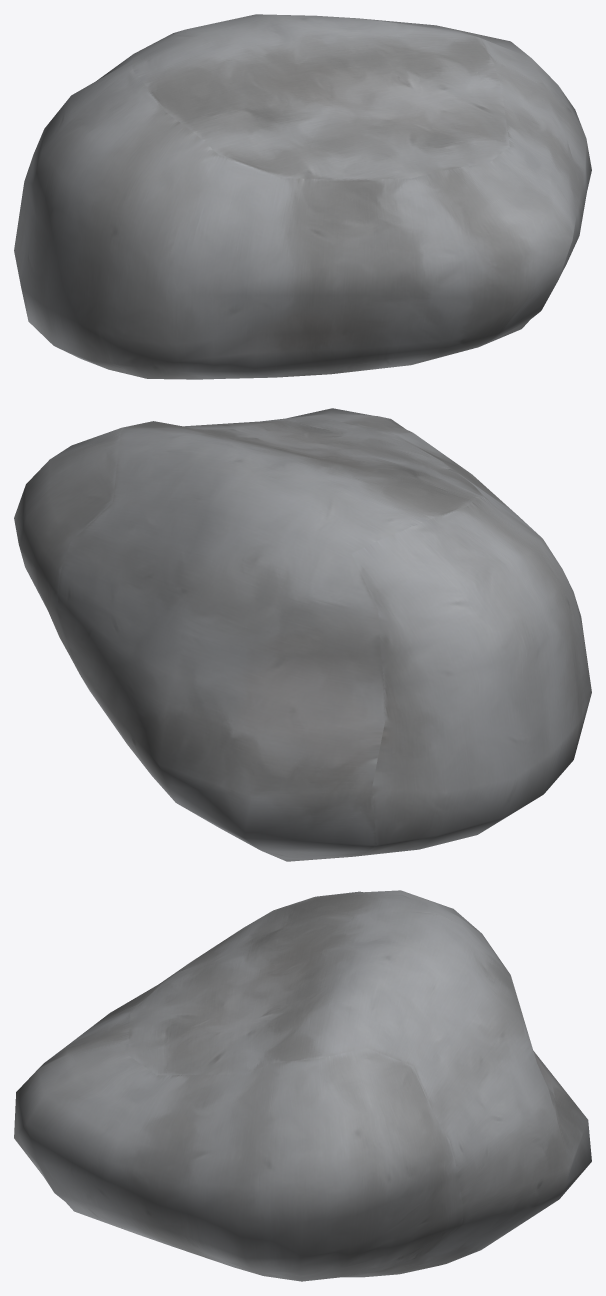
The model's file is Rock1.glb.
3 renders of one model, top to bottom at view 1: azimuth 30°, elevation 25°; view 2: azimuth 150°, elevation 25°; view 3: azimuth 270°, elevation 25°, orthographic. The views are drawn at different scales.
Visible parts, largest first — view 1: Rock1_LP; view 2: Rock1_LP; view 3: Rock1_LP.
Part boxes in pixels (x1,y1,x2,y2): Rock1_LP: [14, 14, 591, 379]; Rock1_LP: [14, 408, 591, 861]; Rock1_LP: [14, 890, 591, 1281].
Size of the model in its own units: 1.83 by 1.13 by 1.77.
1 material, 1 textured.
